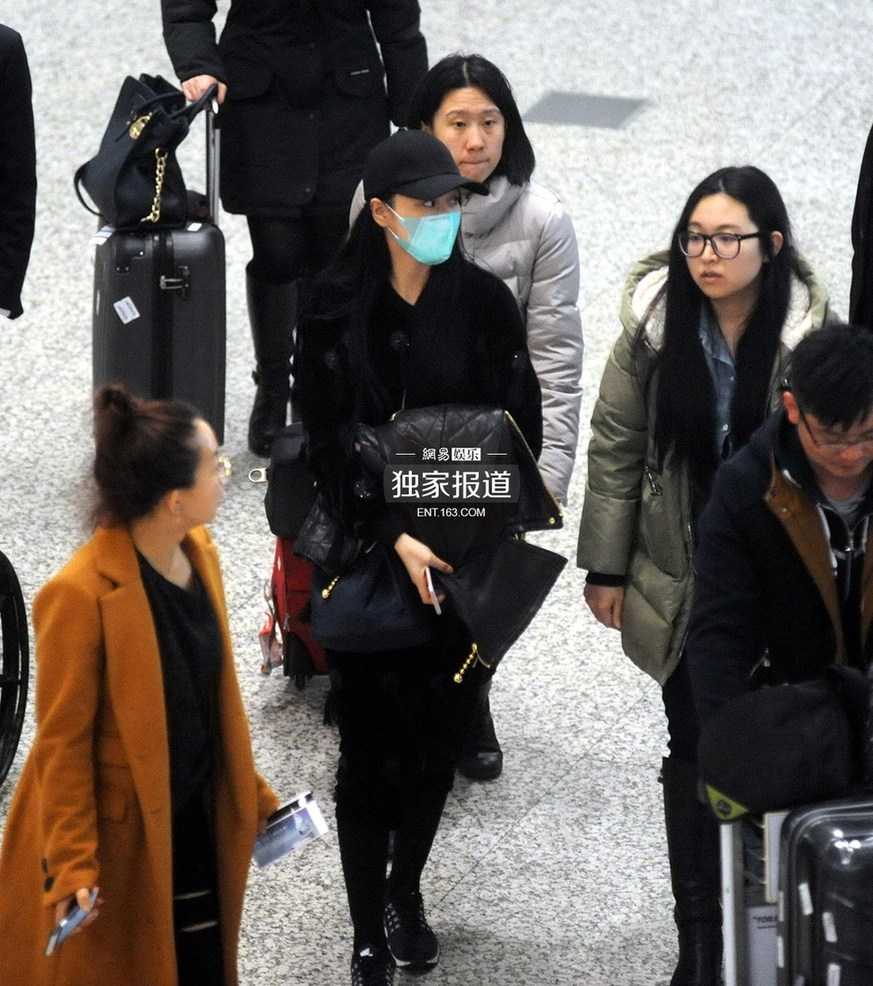face: (684, 196, 760, 298), (434, 83, 505, 185), (801, 399, 871, 474), (177, 433, 227, 521)
face_mask: (390, 176, 459, 260)
